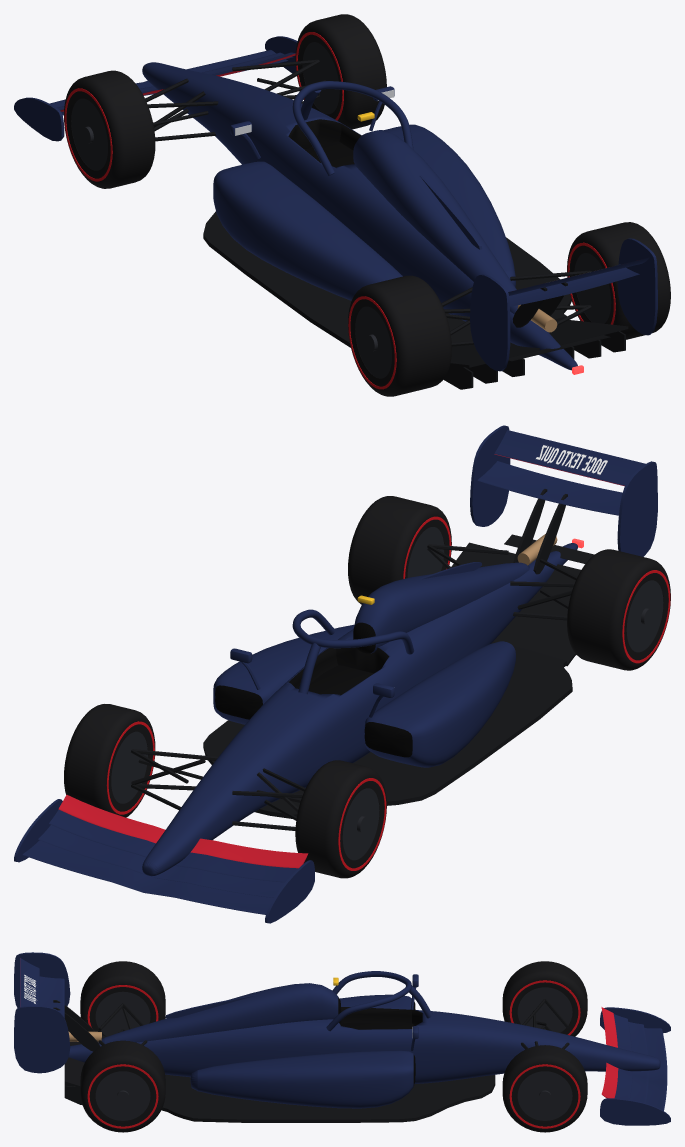
Rendered from carro_f1.glb.
3 views of the same model, one above another, from view 1: azimuth 30°, elevation 25°; view 2: azimuth 150°, elevation 25°; view 3: azimuth 270°, elevation 25° (orthographic). The views are drawn at different scales.
Parts seen in each view (by area): view 1: Carroceria, Roda_TE, Roda_FE, Roda_FD, Roda_TD; view 2: Carroceria, Roda_TE, Roda_FE, Roda_FD, Roda_TD; view 3: Carroceria, Roda_TD, Roda_FD, Roda_FE, Roda_TE.
Boxes of the visible parts, <box> form: Carroceria: <box>14,36,657,389</box>; Roda_TE: <box>348,275,451,396</box>; Roda_FE: <box>64,70,155,188</box>; Roda_FD: <box>295,14,386,129</box>; Roda_TD: <box>567,222,670,339</box>; Carroceria: <box>14,425,657,923</box>; Roda_TE: <box>567,549,670,670</box>; Roda_FE: <box>295,760,386,878</box>; Roda_FD: <box>64,704,155,817</box>; Roda_TD: <box>348,496,451,604</box>; Carroceria: <box>14,952,670,1125</box>; Roda_TD: <box>80,1040,165,1132</box>; Roda_FD: <box>502,1045,587,1132</box>; Roda_FE: <box>502,961,587,1036</box>; Roda_TE: <box>80,961,165,1036</box>.
Bounding box in the file's own units: 1.34 × 0.6581 × 3.71.
12 materials, 1 textured.
